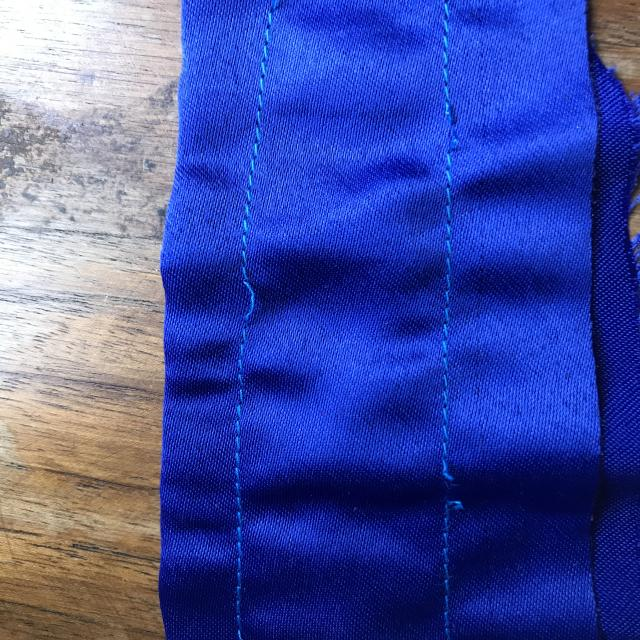broken: (422, 439, 481, 523)
good: (434, 259, 470, 407)
skip: (223, 251, 281, 334)
